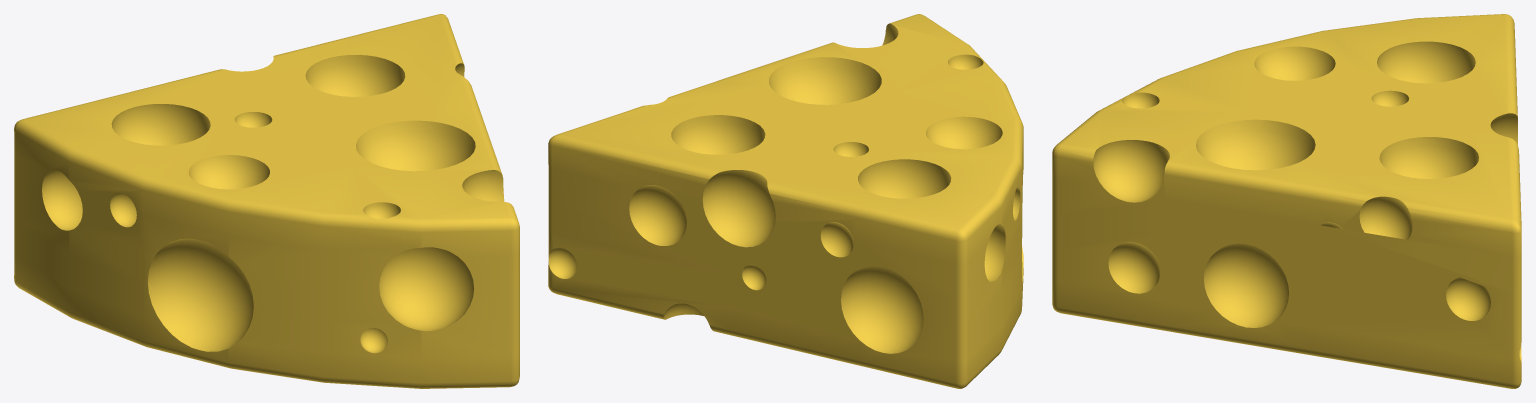
The model's file is Queso.fbx.
3 renders of one model, left to right at view 1: azimuth 30°, elevation 25°; view 2: azimuth 150°, elevation 25°; view 3: azimuth 270°, elevation 25°, orthographic. The views are drawn at different scales.
Visible parts, largest first — view 1: Queso; view 2: Queso; view 3: Queso.
Part boxes in pixels (left/top/right/bottom): Queso: left=14, top=14, right=519, bottom=388; Queso: left=548, top=14, right=1023, bottom=388; Queso: left=1052, top=14, right=1521, bottom=388.
Size of the model in its own units: 7.79 by 2.87 by 7.24.
